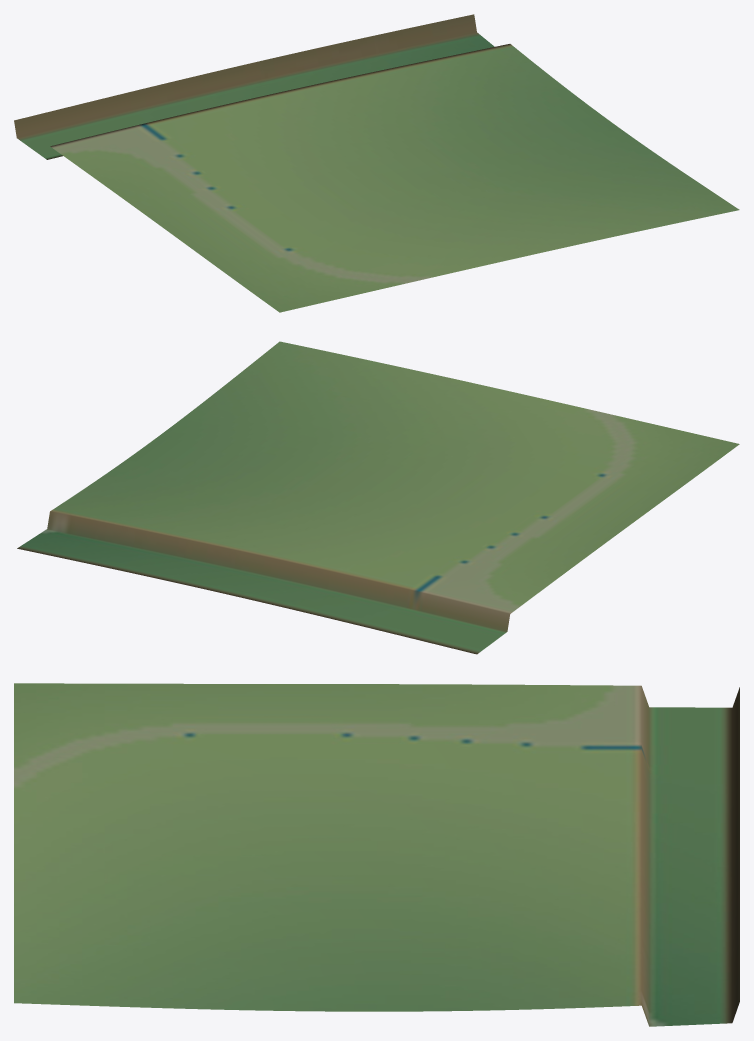
Rendered from terrain_T_W02_S02.glb.
3 views of the same model, one above another, from view 1: azimuth 30°, elevation 25°; view 2: azimuth 150°, elevation 25°; view 3: azimuth 270°, elevation 25° (orthographic). The views are drawn at different scales.
Parts seen in each view (by area): view 1: Terrain_T_W02_S02; view 2: Terrain_T_W02_S02; view 3: Terrain_T_W02_S02.
Part boxes in pixels (x1,y1,x2,y2): Terrain_T_W02_S02: (14, 14, 739, 312); Terrain_T_W02_S02: (17, 341, 739, 654); Terrain_T_W02_S02: (14, 683, 739, 1026).
Size of the model in its own units: 2000 by 112 by 2000.
1 material, 1 textured.
